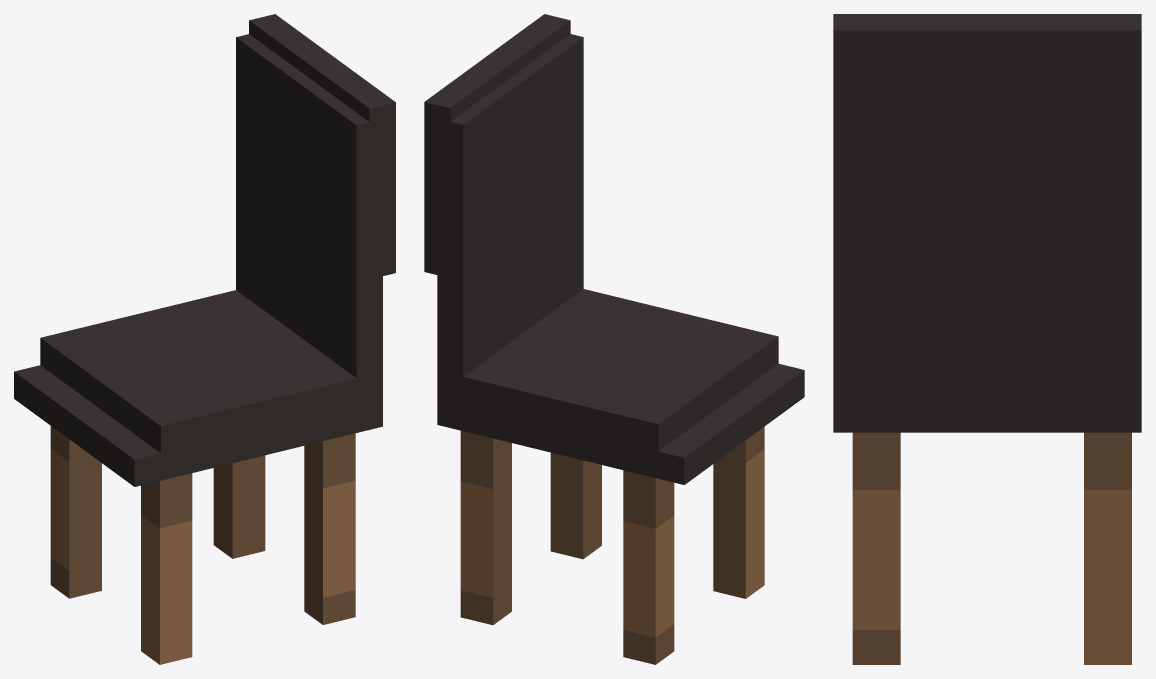
The model's file is diningchair.fbx.
The picture shows the model from 3 angles, left to right: view 1: azimuth 30°, elevation 25°; view 2: azimuth 150°, elevation 25°; view 3: azimuth 270°, elevation 25°; orthographic projection. The views are drawn at different scales.
Visible parts, largest first — view 1: cube_6, cube, cube_1, cube_3, cube_4, cube_2, cube_7, cube_5; view 2: cube_6, cube, cube_1, cube_5, cube_2, cube_3, cube_7, cube_4; view 3: cube_7, cube_6, cube_4, cube_5.
Part boxes in pixels (bbox=[...]): cube_6: bbox=[236, 34, 382, 432]; cube: bbox=[40, 290, 356, 453]; cube_1: bbox=[14, 365, 356, 486]; cube_3: bbox=[141, 473, 192, 664]; cube_4: bbox=[304, 433, 355, 624]; cube_2: bbox=[50, 426, 101, 598]; cube_7: bbox=[249, 14, 395, 275]; cube_5: bbox=[213, 455, 265, 558]; cube_6: bbox=[437, 34, 583, 430]; cube: bbox=[463, 289, 778, 451]; cube_1: bbox=[463, 363, 804, 484]; cube_5: bbox=[460, 430, 511, 625]; cube_2: bbox=[623, 470, 674, 664]; cube_3: bbox=[713, 426, 764, 598]; cube_7: bbox=[424, 14, 570, 274]; cube_4: bbox=[550, 452, 601, 559]; cube_7: bbox=[833, 14, 1141, 248]; cube_6: bbox=[833, 248, 1141, 432]; cube_4: bbox=[852, 432, 900, 664]; cube_5: bbox=[1084, 432, 1131, 664].
Bounding box in the file's own units: 62.5 × 117 × 50.01.
1 material, 1 textured.
